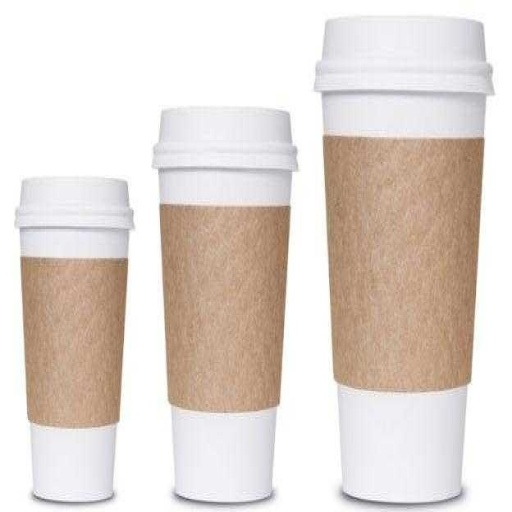cup: (311, 16, 494, 506), (151, 105, 298, 504), (13, 177, 135, 501)
